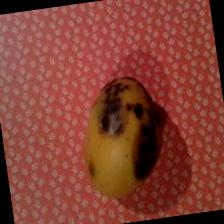Mango Rotten: (65, 75, 167, 196)
